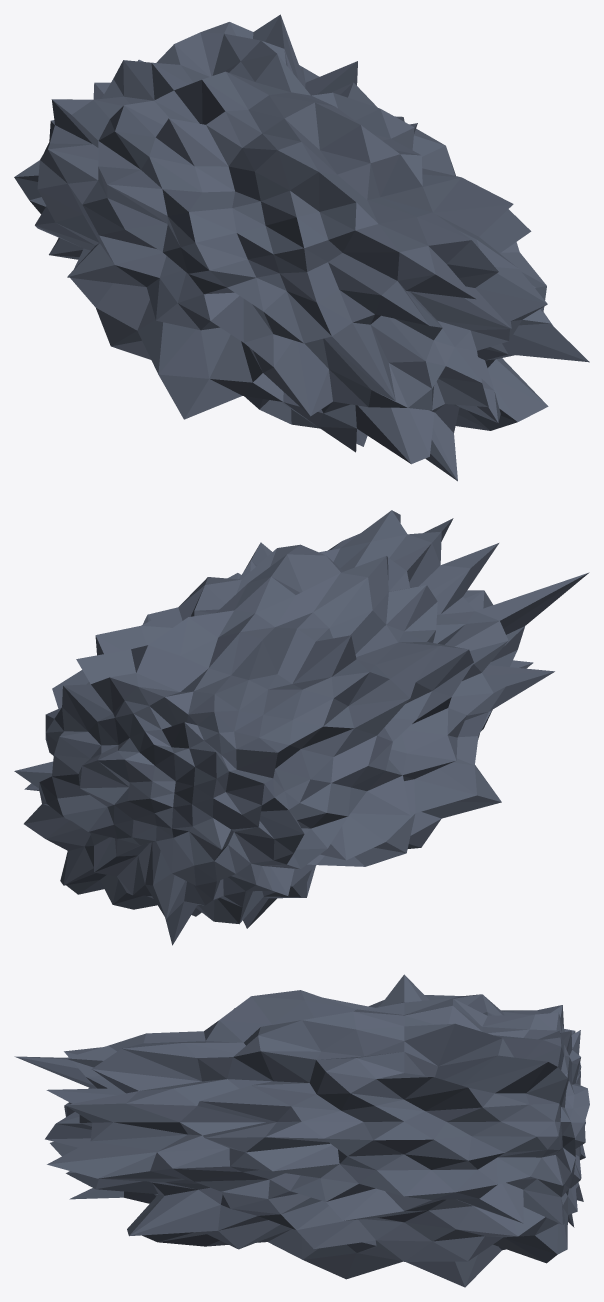
The model's file is Akariz_Rock_Obsidian_Shard.glb.
The picture shows the model from 3 angles, top to bottom: view 1: azimuth 30°, elevation 25°; view 2: azimuth 150°, elevation 25°; view 3: azimuth 270°, elevation 25°; orthographic projection. The views are drawn at different scales.
Parts seen in each view (by area): view 1: Akariz_Rock_Obsidian_Shard; view 2: Akariz_Rock_Obsidian_Shard; view 3: Akariz_Rock_Obsidian_Shard.
Boxes of the visible parts, x1=… form: Akariz_Rock_Obsidian_Shard: x1=14, y1=14, x2=589, y2=481; Akariz_Rock_Obsidian_Shard: x1=14, y1=510, x2=589, y2=945; Akariz_Rock_Obsidian_Shard: x1=14, y1=974, x2=589, y2=1287.
Bounding box in the file's own units: 1.65 × 1.33 × 2.76.
